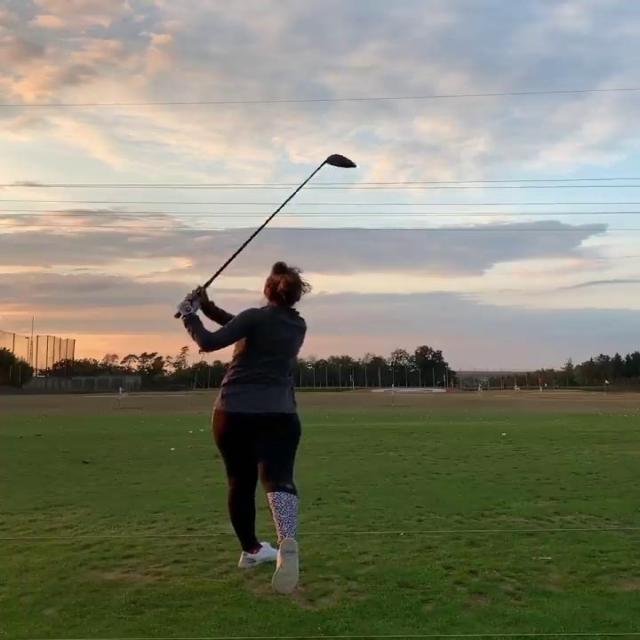golf club-handle: (173, 150, 363, 319)
golf club-head: (326, 152, 358, 168)
